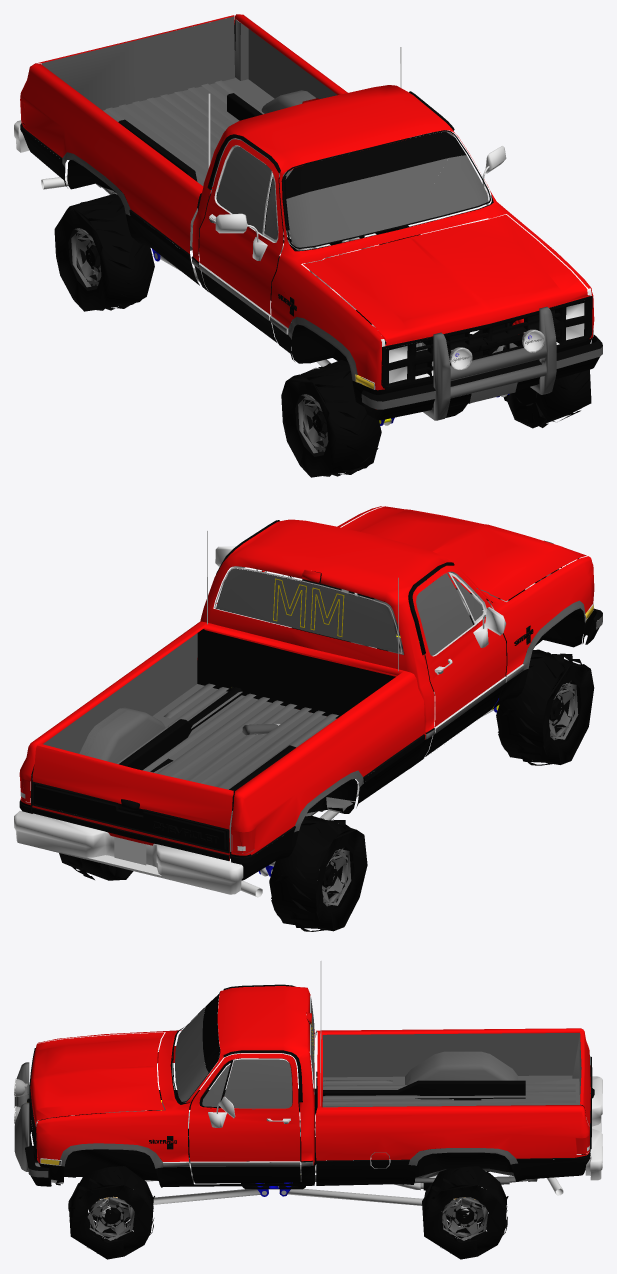
Rendered from 1985-chevy-silverado-739e91.glb.
3 renders of one model, top to bottom at view 1: azimuth 30°, elevation 25°; view 2: azimuth 150°, elevation 25°; view 3: azimuth 270°, elevation 25°, orthographic. The views are drawn at different scales.
Visible parts, largest first — view 1: body, wheel-back-right, wheel-front-right, wheel-front-left; view 2: body, wheel-back-right, wheel-front-right, wheel-back-left; view 3: body, wheel-back-left, wheel-front-left.
Part boxes in pixels (x1=…): body: x1=14, y1=14, x2=602, y2=425; wheel-back-right: x1=54, y1=193, x2=154, y2=311; wheel-front-right: x1=281, y1=360, x2=381, y2=477; wheel-front-left: x1=503, y1=340, x2=591, y2=428; body: x1=14, y1=506, x2=602, y2=897; wheel-back-right: x1=269, y1=815, x2=367, y2=931; wheel-front-right: x1=496, y1=649, x2=594, y2=765; wheel-back-left: x1=59, y1=853, x2=133, y2=880; body: x1=14, y1=961, x2=602, y2=1217; wheel-back-left: x1=422, y1=1166, x2=508, y2=1259; wheel-front-left: x1=68, y1=1166, x2=154, y2=1259.
Size of the model in its own units: 1.88 by 1.72 by 4.27.
Materials: 46 (5 with a texture image).
